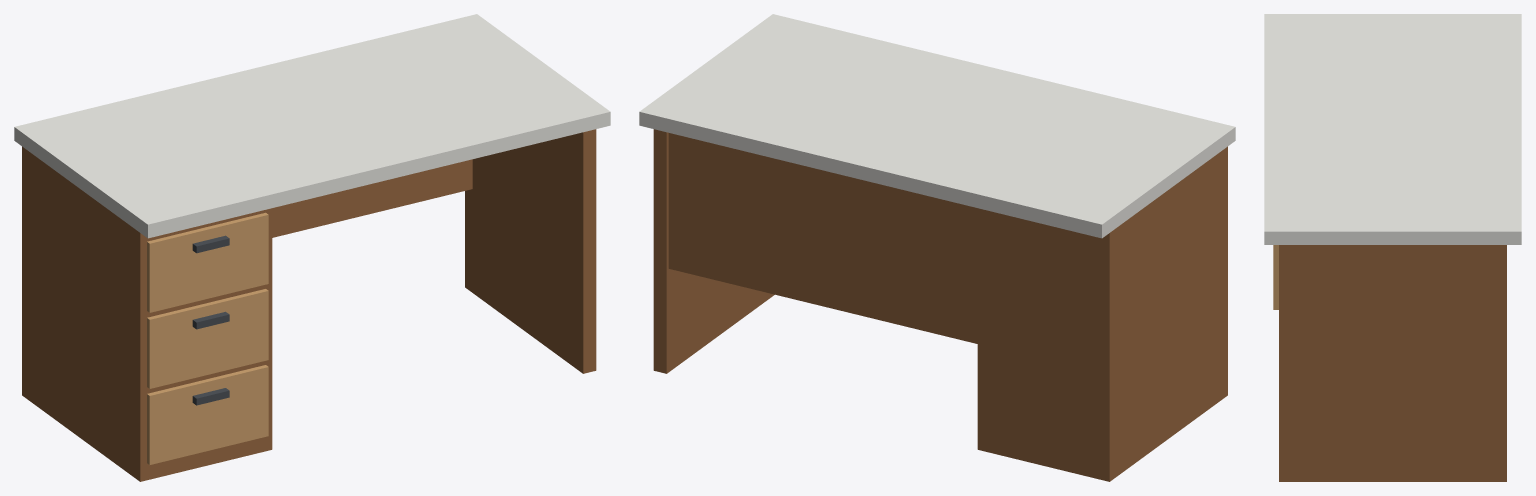
File: mesa-escritorio.glb
The picture shows the model from 3 angles, left to right: view 1: azimuth 30°, elevation 25°; view 2: azimuth 150°, elevation 25°; view 3: azimuth 270°, elevation 25°; orthographic projection. The views are drawn at different scales.
Parts seen in each view (by area): view 1: Tampo, Gavetas, Estrutura, Frentes; view 2: Tampo, Gavetas, Estrutura; view 3: Tampo, Estrutura, Frentes.
Boxes of the visible parts, x1,y1,x2,y2 form: Tampo: [14, 14, 610, 238]; Gavetas: [22, 146, 272, 481]; Estrutura: [272, 129, 596, 373]; Frentes: [147, 212, 268, 464]; Tampo: [639, 14, 1235, 238]; Gavetas: [977, 146, 1227, 481]; Estrutura: [653, 129, 977, 373]; Tampo: [1264, 14, 1521, 244]; Estrutura: [1279, 245, 1506, 481]; Frentes: [1273, 245, 1278, 309].
Bounding box in the file's own units: 1.4 × 0.76 × 0.7.
